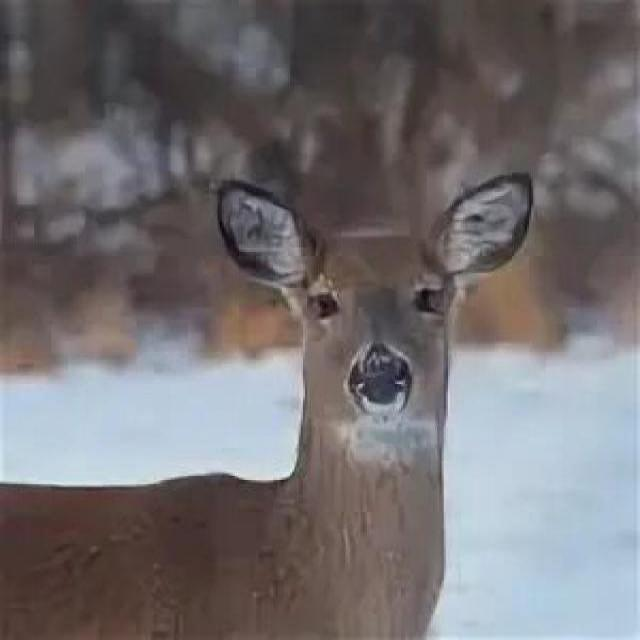deer: (131, 93, 519, 640)
